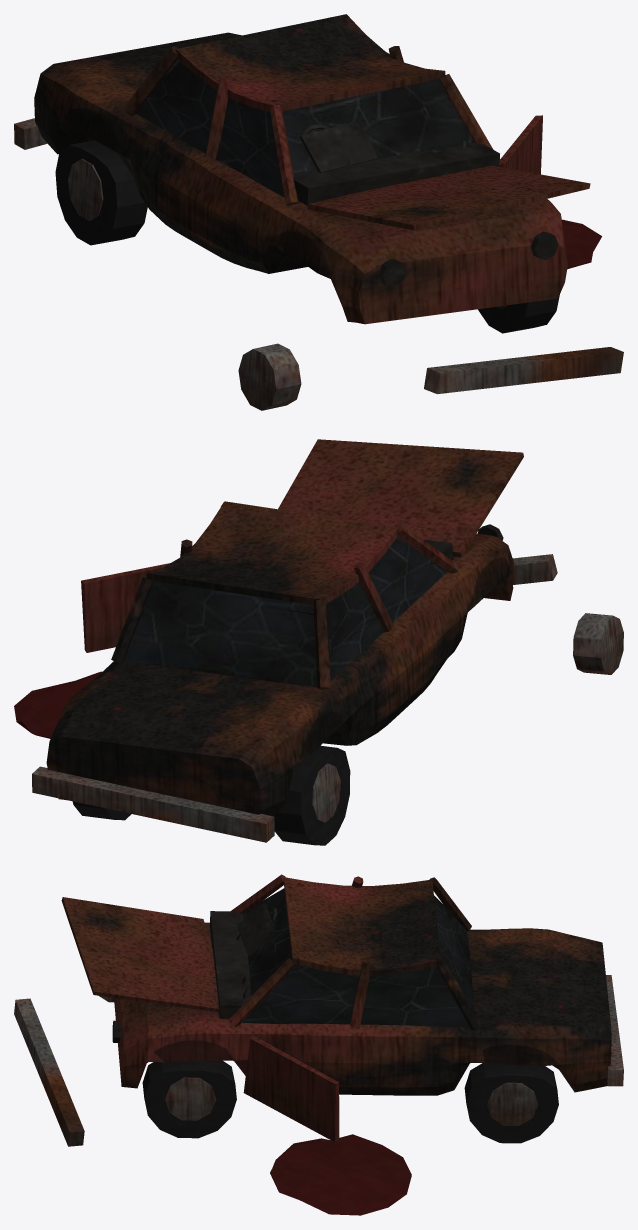
Rendered from car_wreck_b.glb.
3 views of the same model, one above another, from view 1: azimuth 30°, elevation 25°; view 2: azimuth 150°, elevation 25°; view 3: azimuth 270°, elevation 25° (orthographic). The views are drawn at different scales.
Visible parts, largest first — view 1: car_wreck_b; view 2: car_wreck_b; view 3: car_wreck_b.
Boxes of the visible parts, x1=… form: car_wreck_b: x1=14, y1=14, x2=623, y2=410; car_wreck_b: x1=14, y1=439, x2=623, y2=845; car_wreck_b: x1=14, y1=874, x2=623, y2=1215.
Bounding box in the file's own units: 3.52 × 1.69 × 4.72.
Materials: 1 (1 with a texture image).
